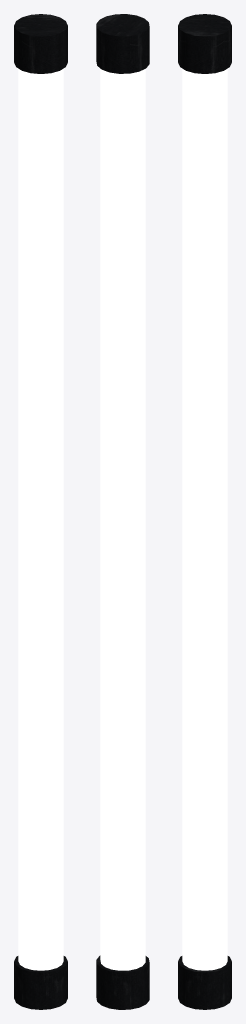
File: pixel_tube.gltf
The picture shows the model from 3 angles, left to right: view 1: azimuth 90°, elevation 25°; view 2: azimuth 150°, elevation 25°; view 3: azimuth 270°, elevation 25°; orthographic projection.
Visible parts, largest first — view 1: pixel_tube; view 2: pixel_tube; view 3: pixel_tube.
Boxes of the visible parts, box(x1,y1,x2,y2) form: pixel_tube: box(14, 14, 67, 1009); pixel_tube: box(96, 14, 149, 1009); pixel_tube: box(178, 14, 231, 1009).
Bounding box in the file's own units: 0.052 × 1.04 × 0.052.
Materials: 2 (1 with a texture image).
